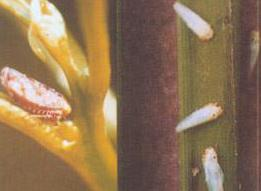Cicadellidae: (1, 65, 72, 124)
